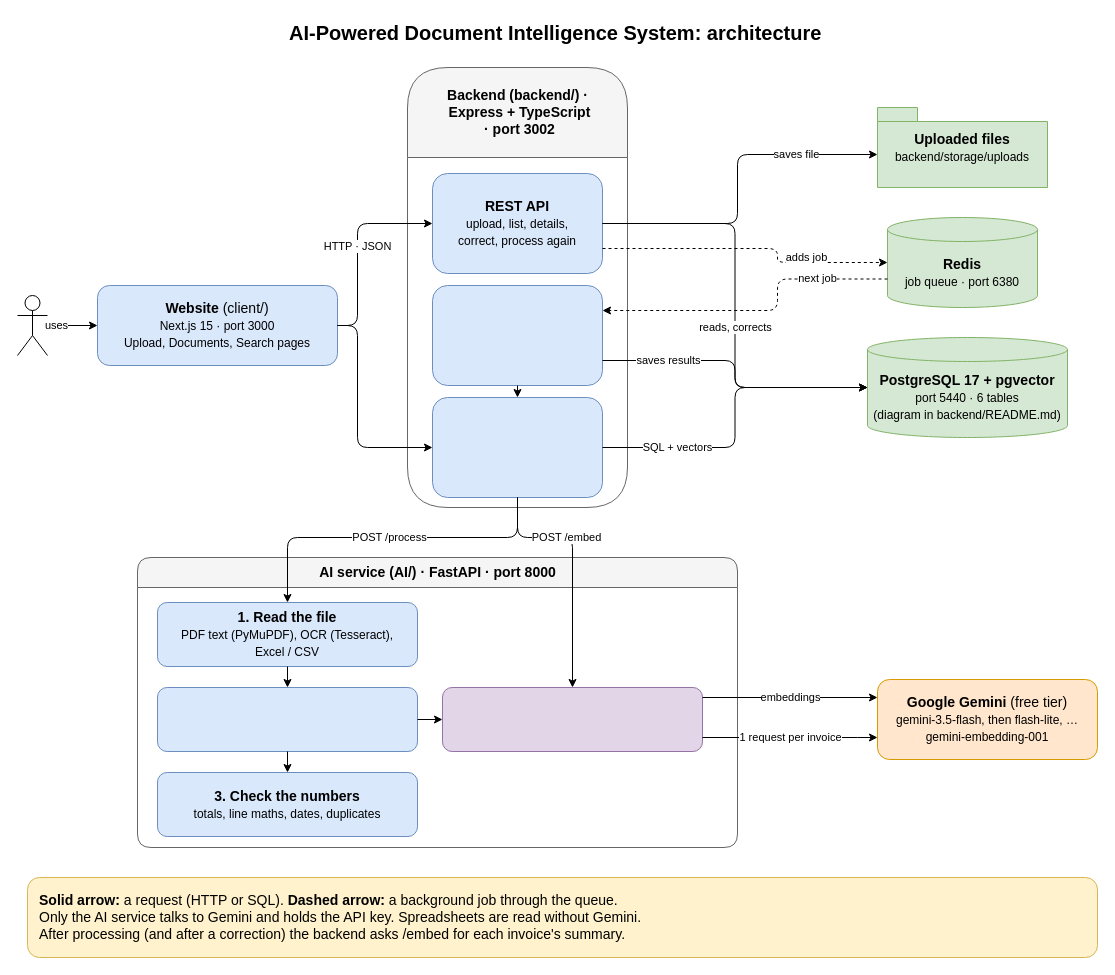
This 1115x975 diagram has some shape labels left out. The centre of each missing label's shape, as x and y in pixels:
"2. Extract the invoice Gemini + prompt; evidence is checked" goes at point 287,719.
"Background worker BullMQ, one file at a time; saves results + history" goes at point 517,335.
"Embed (/embed) 768 numbers per text, for meaning search" goes at point 572,719.
"Search keyword + filters; meaning (pgvector)" goes at point 517,447.
"User" goes at point 32,325.
